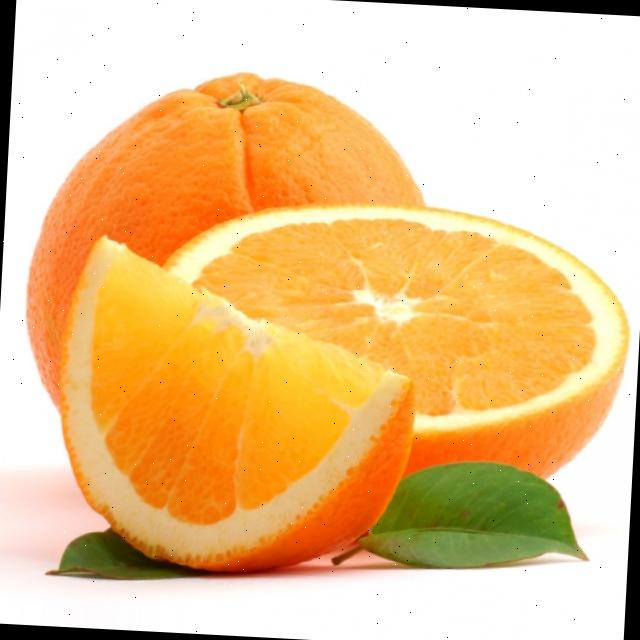Jeruk: (19, 61, 432, 436), (150, 192, 636, 491), (49, 232, 425, 582)
